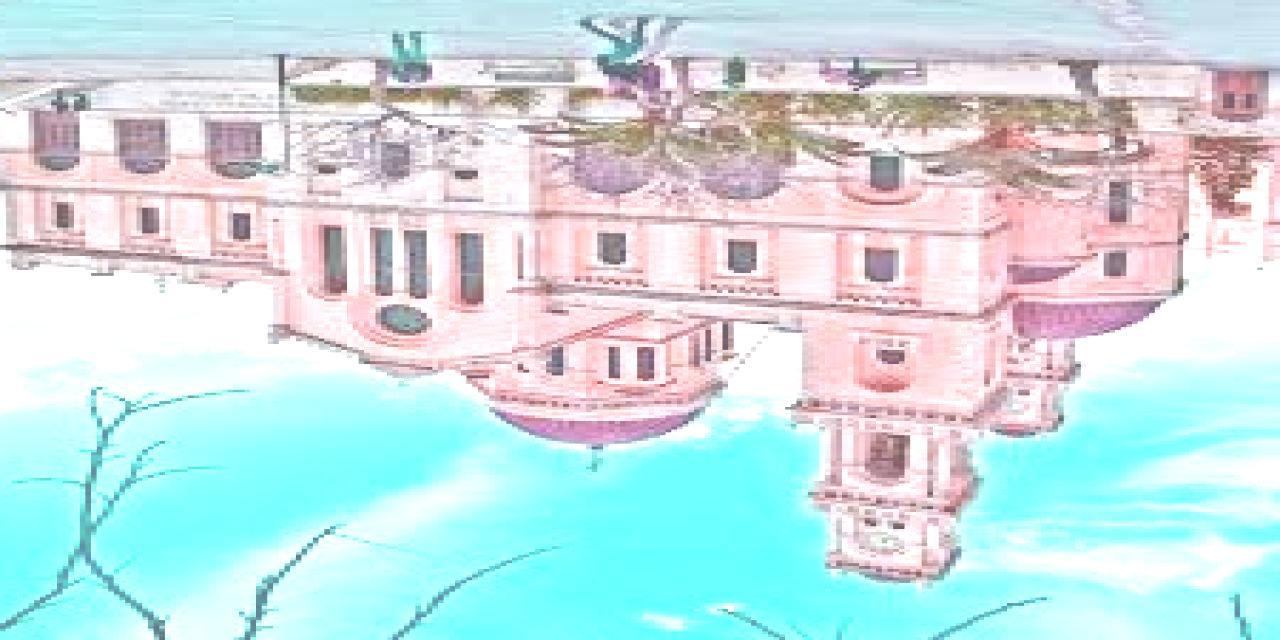Agios Minas: (1, 98, 1196, 604)
